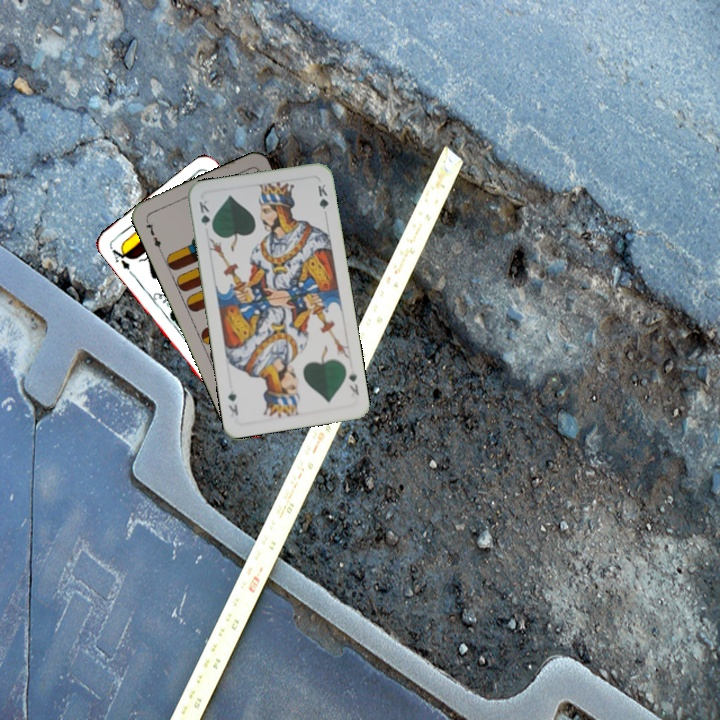E7: (142, 216, 164, 254)
EA: (108, 243, 133, 273)
GK: (195, 196, 216, 234), (345, 369, 362, 398)
